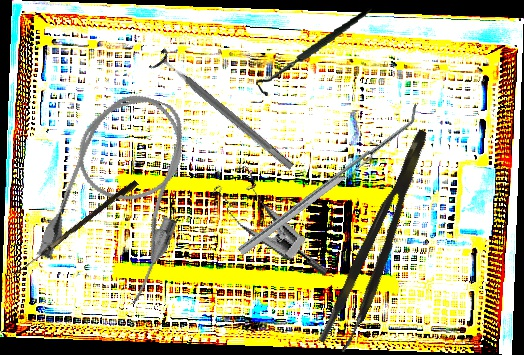Cannula: (32, 79, 214, 308)
Fixation Ring: (147, 47, 301, 178)
Hook Surgical: (13, 177, 139, 282), (248, 7, 382, 98)
Spatula Surgical: (232, 103, 426, 256)
Speculum: (200, 158, 353, 277)
Tissue Forceps: (317, 127, 447, 355)
